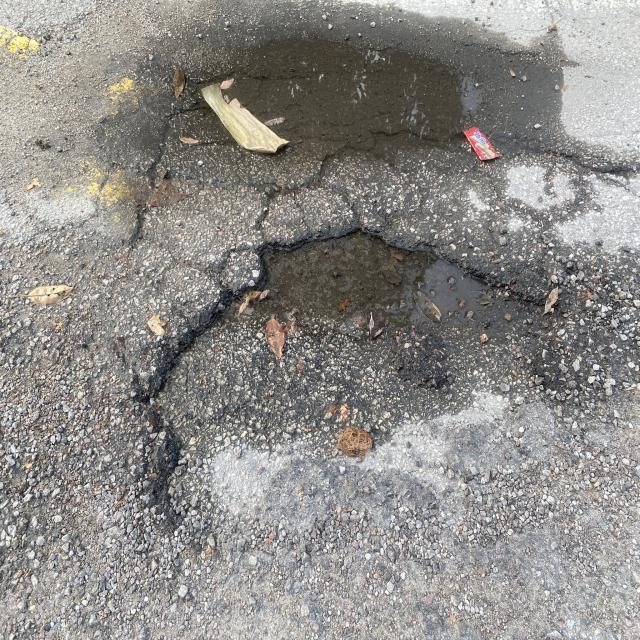pothole: (102, 175, 580, 556)
